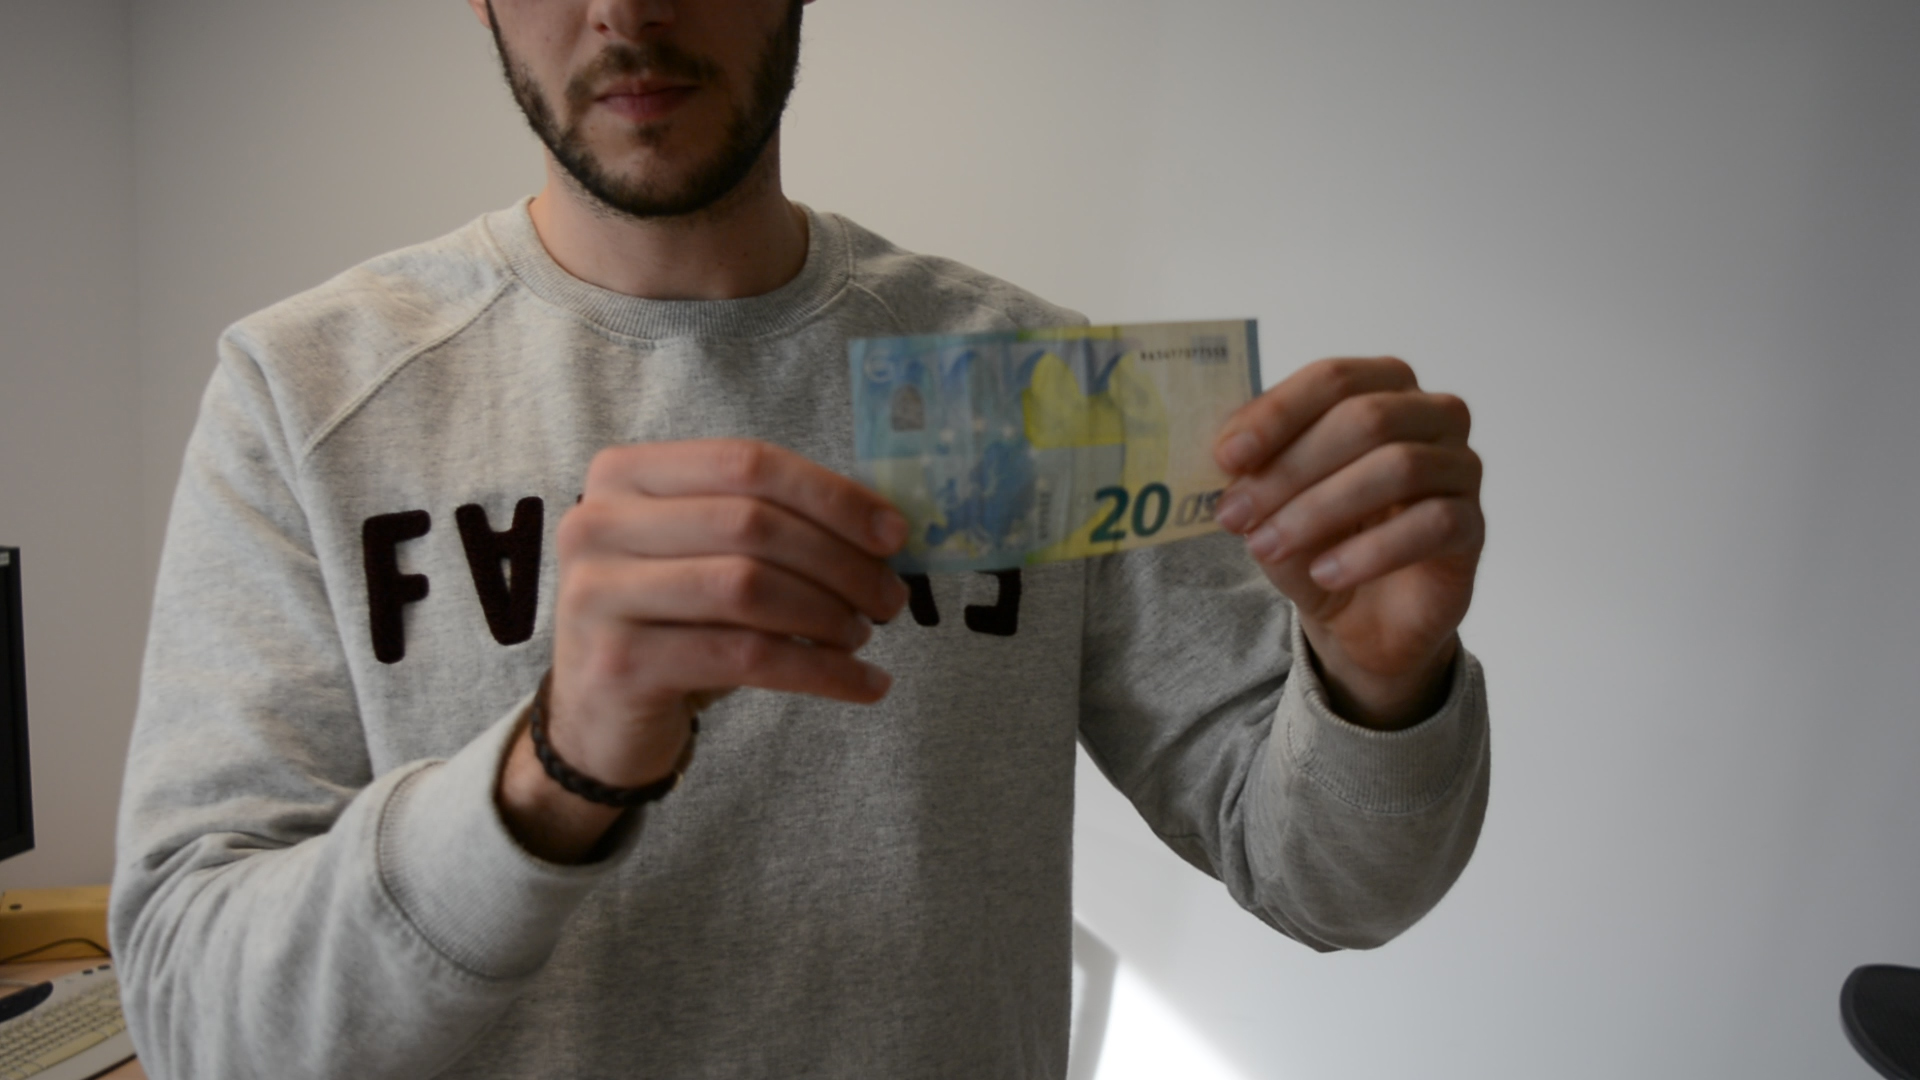billete: (844, 315, 1267, 574)
